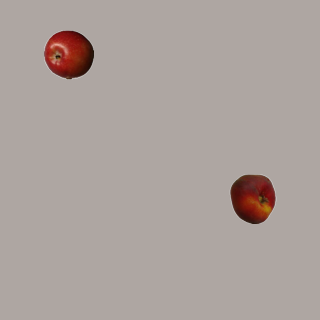Apple Braeburn: (43, 29, 93, 79)
Nectarine Flat: (227, 173, 277, 223)
